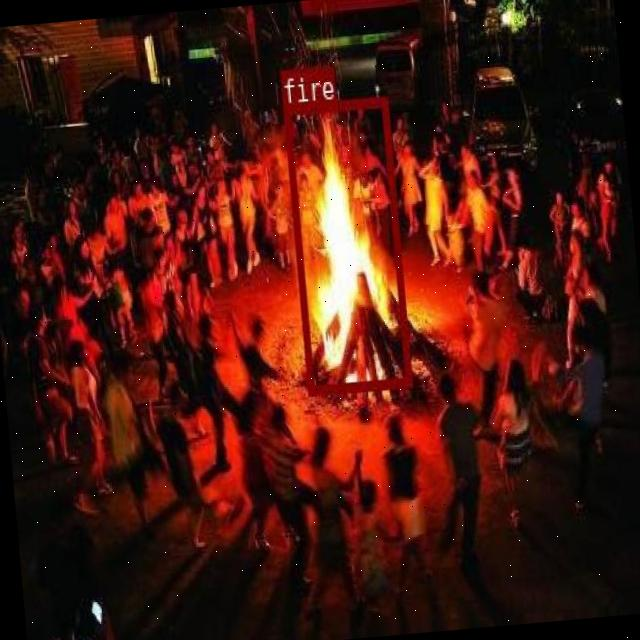fire: (281, 95, 410, 394)
